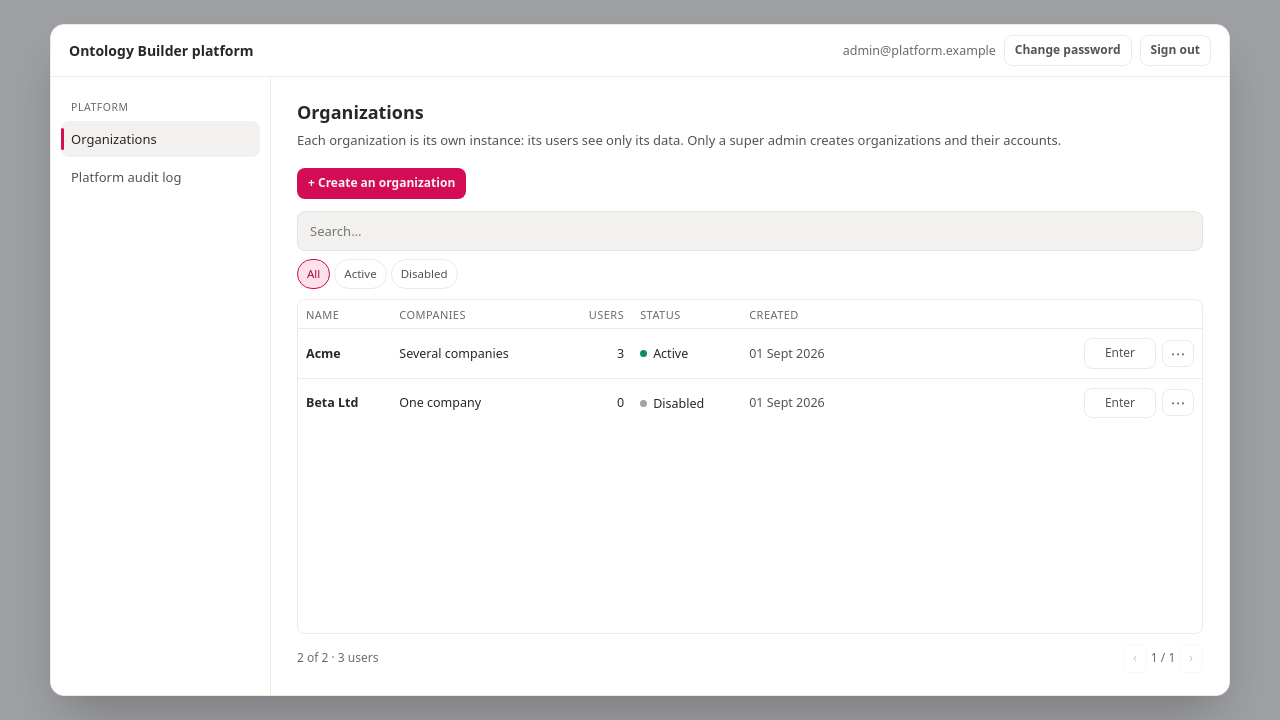
the platform portal › creates an organization from the dialog, several companies by default, and shows a refusal in .msg
Click the button "+ Create an organization".
click(382, 184)  # box [297, 168, 466, 199]
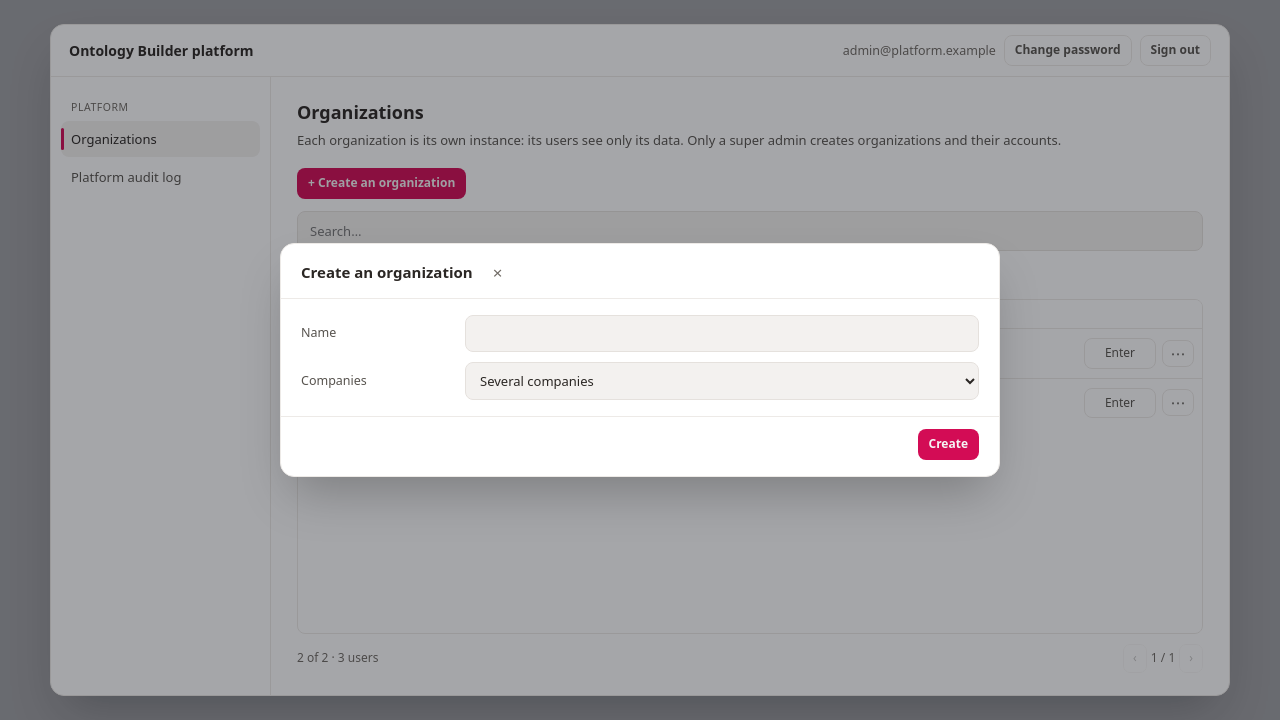
Check: the text "Create an organization" is shown, box [301, 261, 473, 285]
Check: the dropdown with id "orgMode" shows "Several companies", box [465, 362, 979, 400]
Type "Acme" into the field with id "orgName".
click(722, 334); type("Acme")  # box [465, 315, 979, 352]
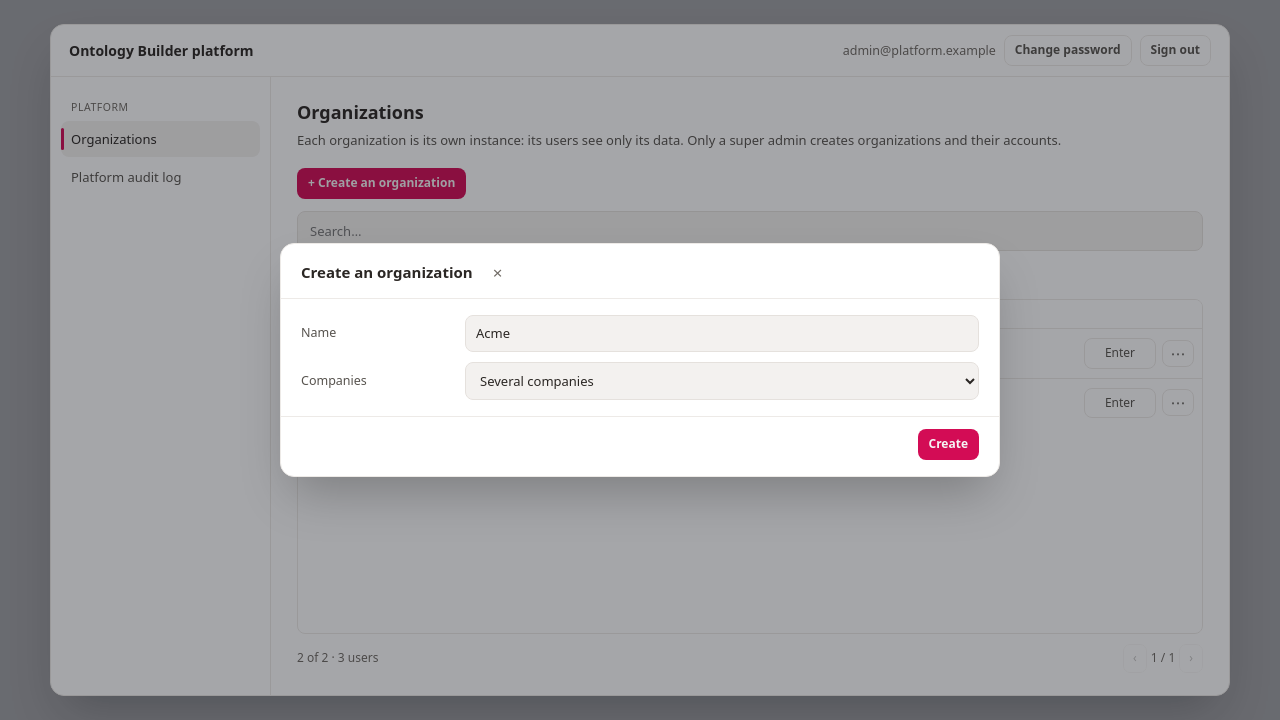
Click the button "Create".
click(948, 445)  # box [918, 430, 979, 460]
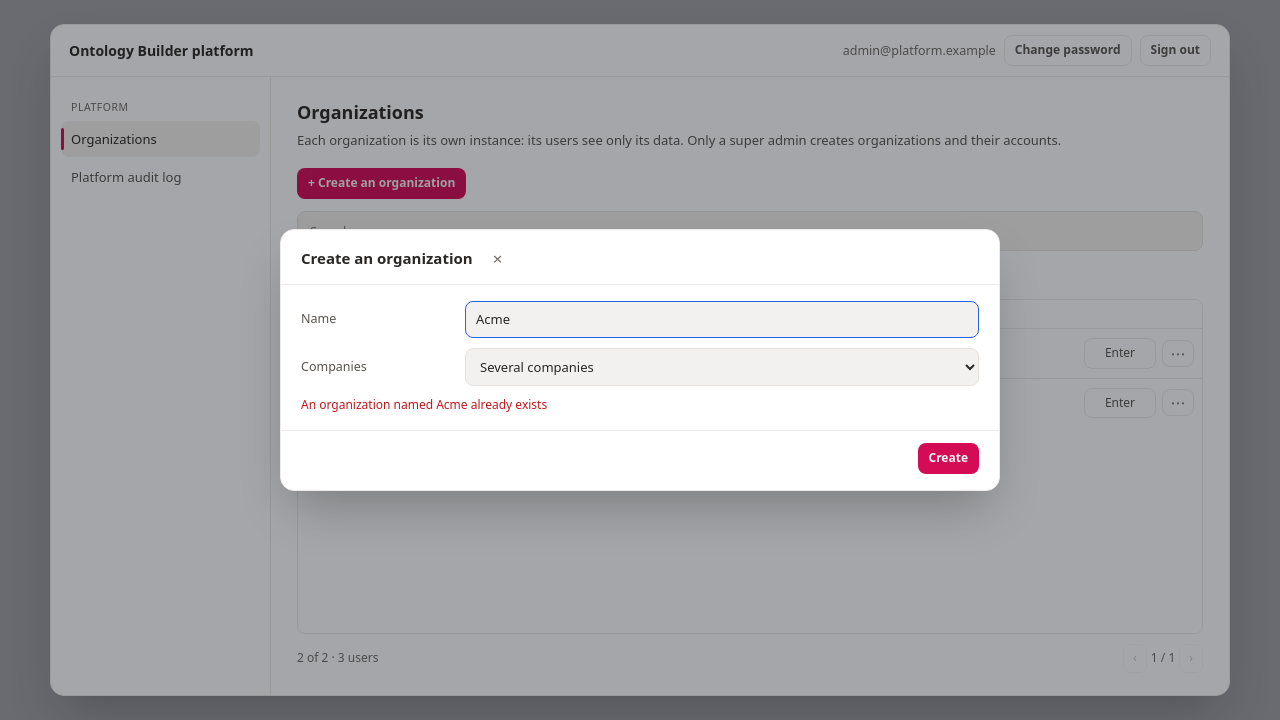
Check: the text "Create an organization" is shown, box [301, 247, 473, 271]
Check: the message with class "msg" reads "An organization named Acme already exists", box [301, 396, 547, 414]
Replace the text in the field with id "orgName" with "Gamma" at (722, 320), box [465, 301, 979, 338]
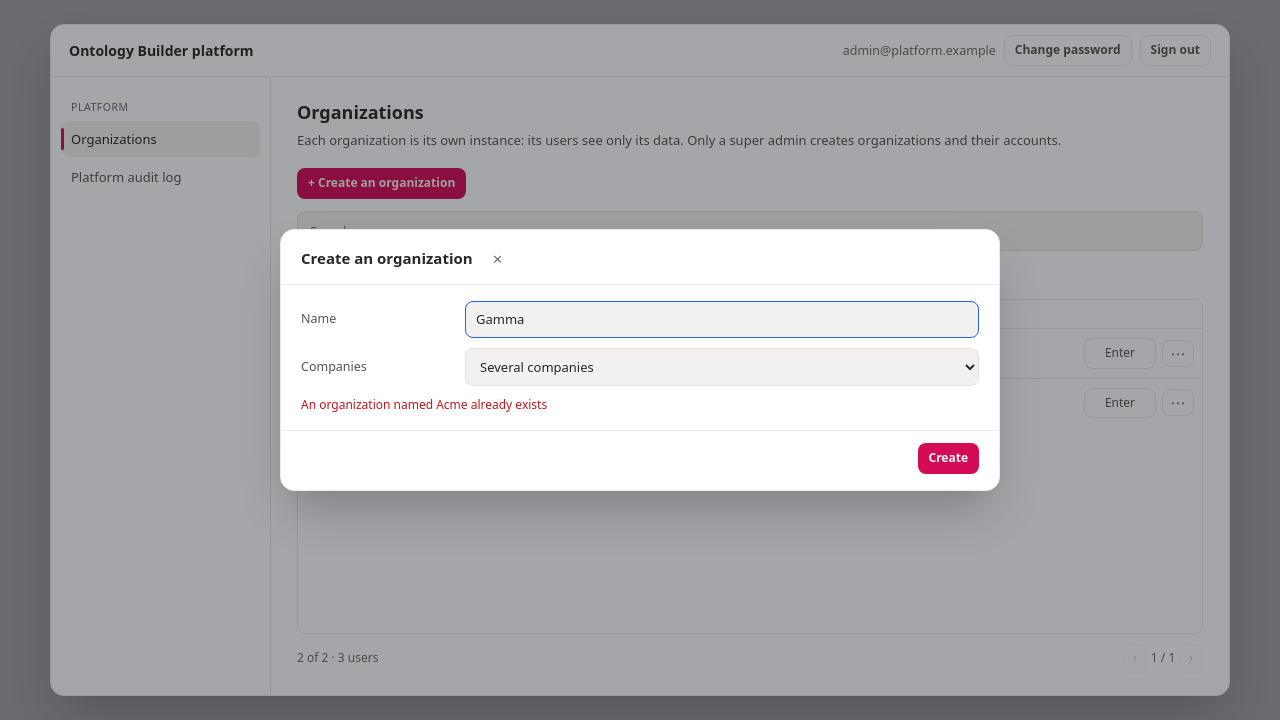
Select "One company" in the dropdown with id "orgMode" at (722, 368), box [465, 348, 979, 386]
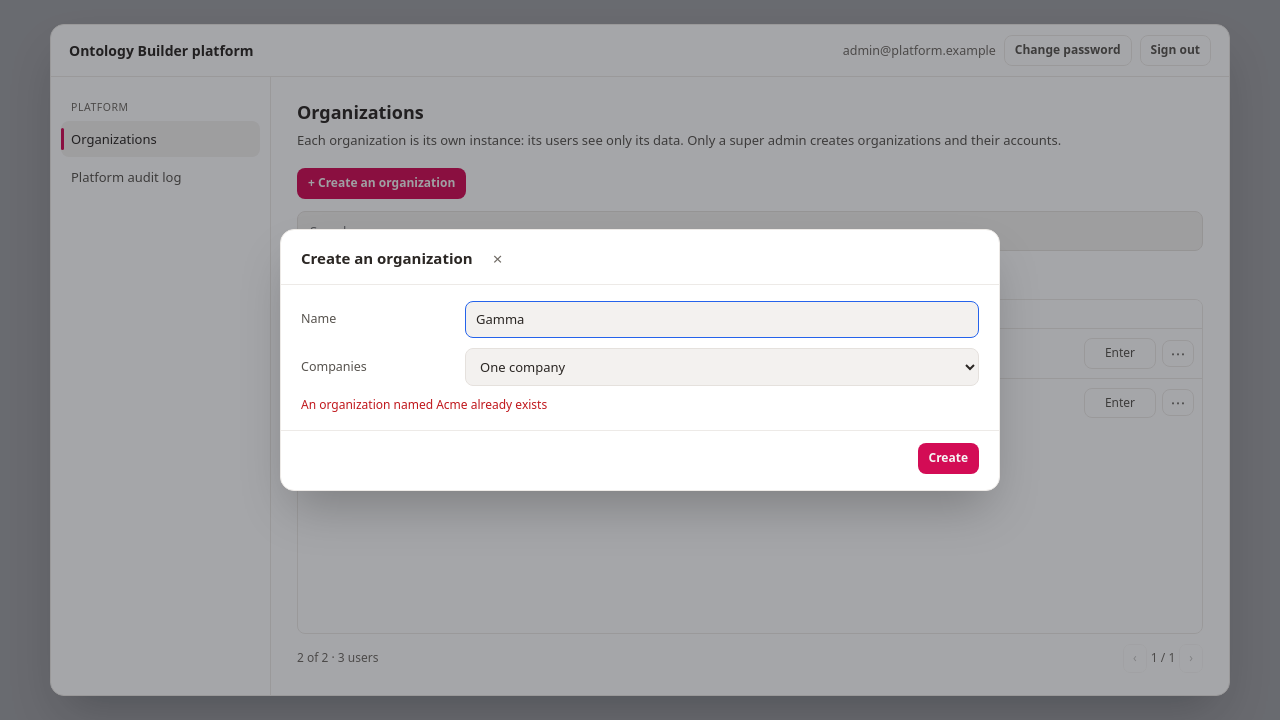
Click the button "Create".
click(948, 459)  # box [918, 444, 979, 474]
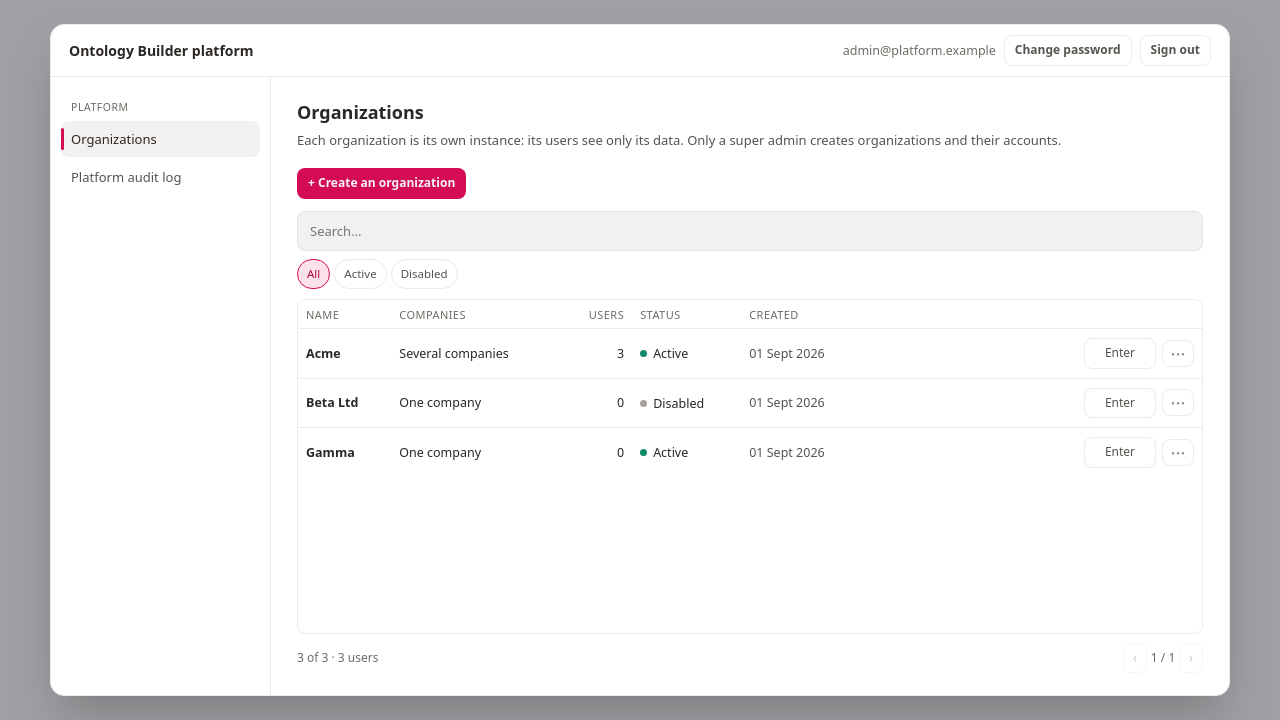
Check: the dialog with class "dlg" is gone
Check: the row "Gamma One company 0 Active 01 Sept 2026 Enter ⋯" is shown, box [298, 428, 1202, 477]
